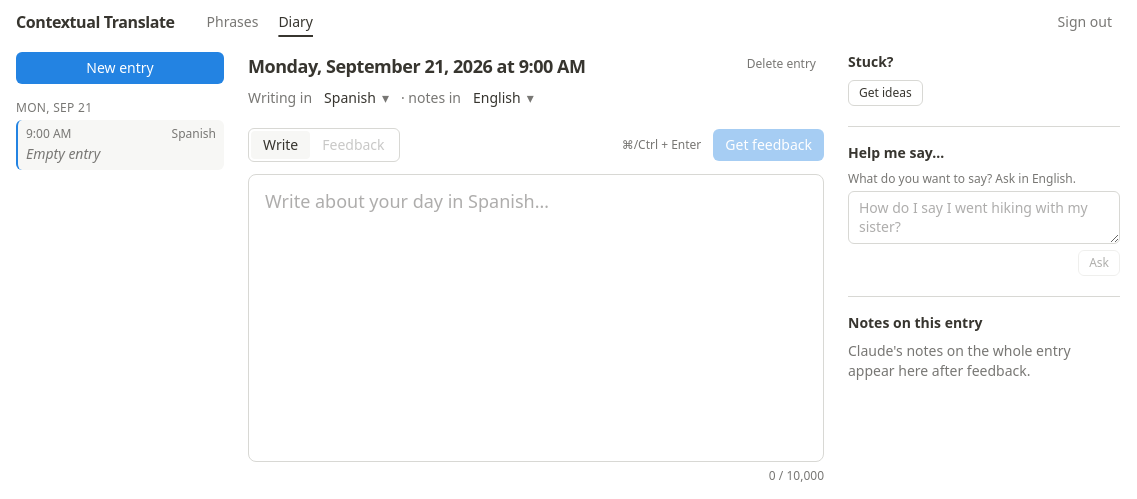
DiaryPage › cuts a long entry's preview at twelve words, as the server does
expect the button "New entry" is shown: met, box [16,52,224,84]
Click the text box named "Diary entry": (536, 318) [248,174,824,462]
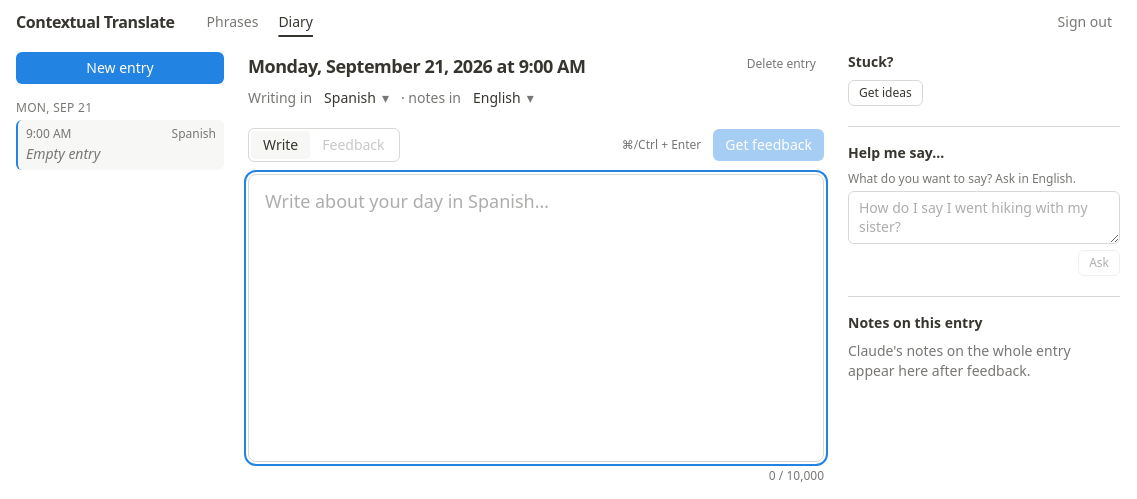
Type keys "uno dos tres cuatro cinco seis siete ocho nueve diez once doce trece catorce"
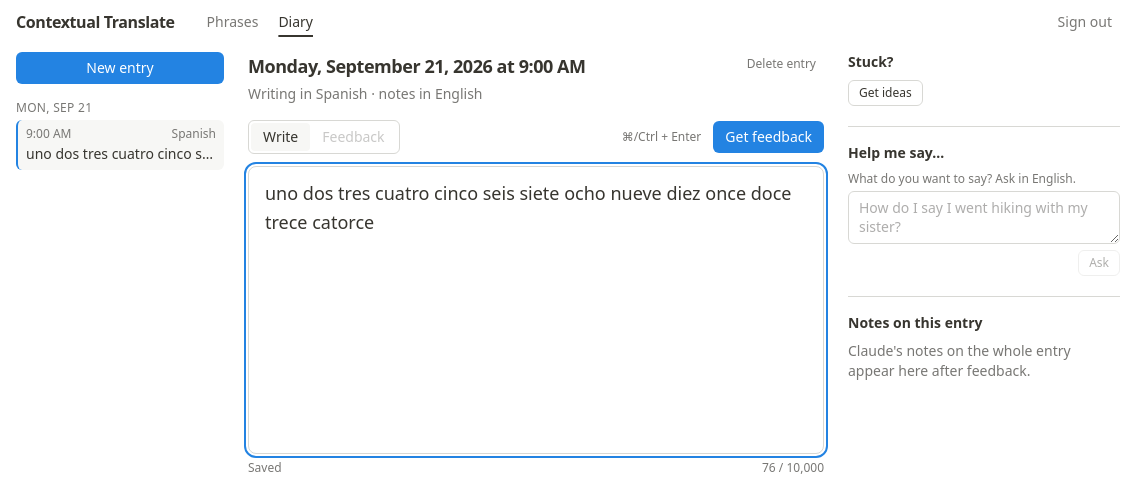
expect the text "Saved" is shown: met, box [248,460,282,476]
expect the link "uno dos" shows "uno dos tres cuatro cinco seis siete ocho nueve diez once doce…": met, box [16,120,224,170]
